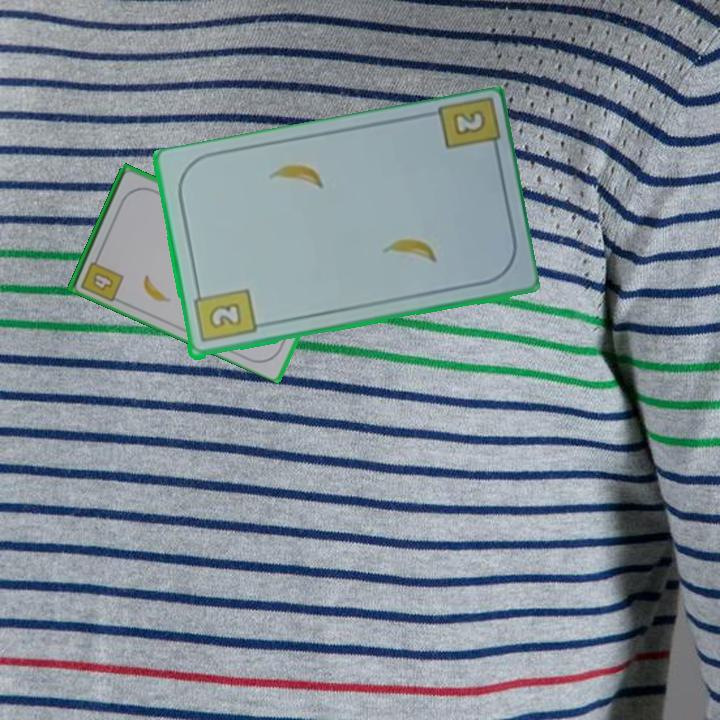2b: (190, 285, 258, 346), (448, 109, 485, 139)
4b: (77, 250, 126, 304)
